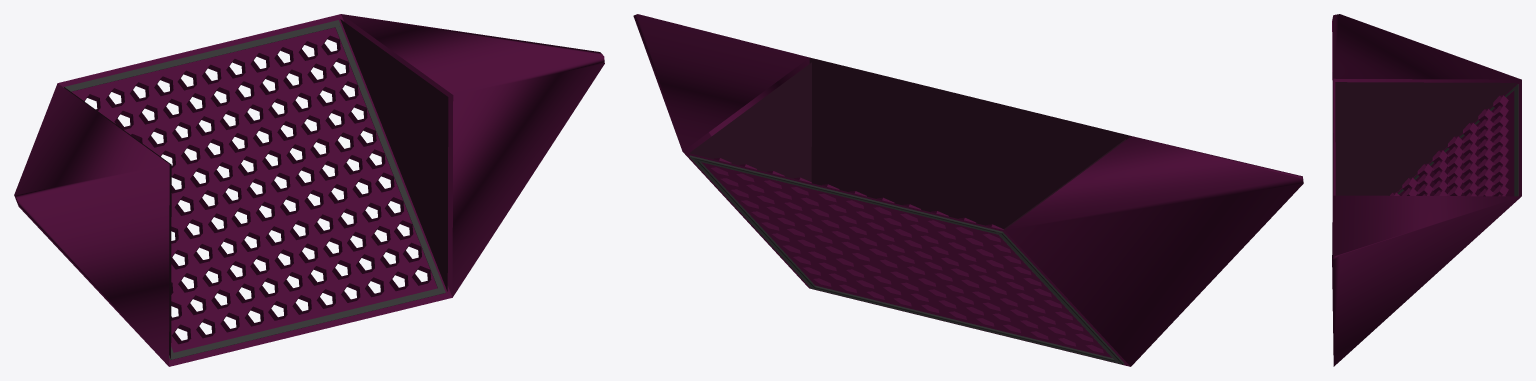
File: speaker.fbx
The picture shows the model from 3 angles, left to right: view 1: azimuth 30°, elevation 25°; view 2: azimuth 150°, elevation 25°; view 3: azimuth 270°, elevation 25°; orthographic projection. The views are drawn at different scales.
Visible parts, largest first — view 1: pCone156; view 2: pCone156; view 3: pCone156.
Part boxes in pixels (box(x1,y1,x2,y2)): pCone156: box(14, 14, 604, 366); pCone156: box(633, 14, 1303, 366); pCone156: box(1332, 14, 1521, 366).
Size of the model in its own units: 3.03 by 1.02 by 1.01.
